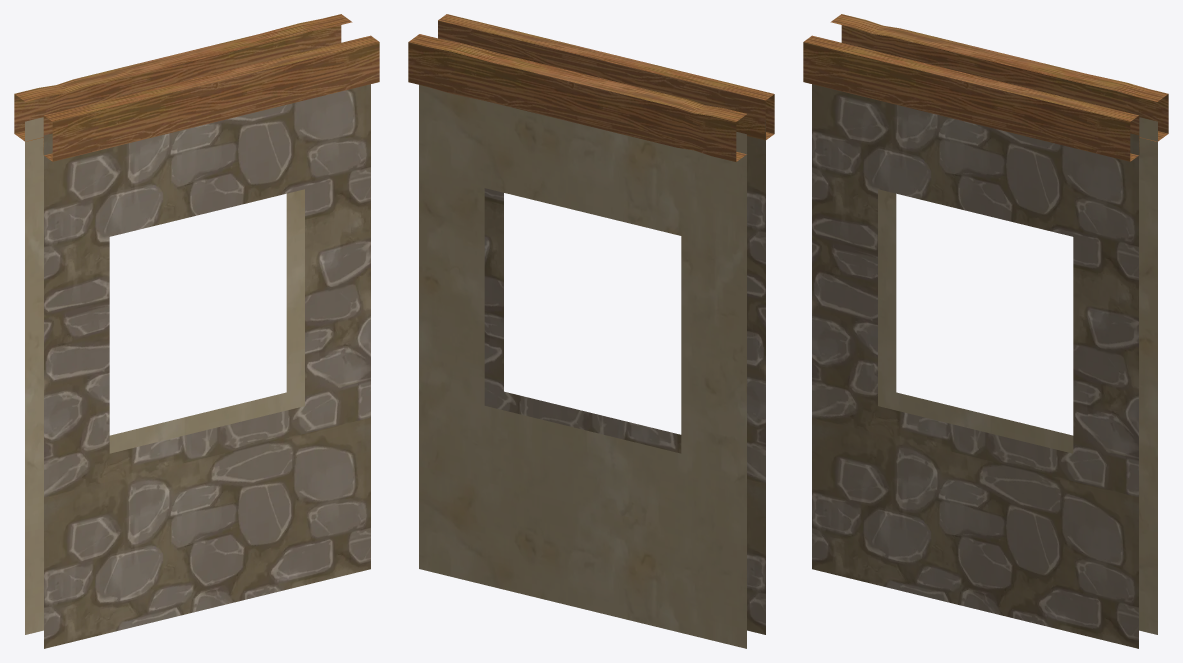
The model's file is wall_unevenbrick_window_wide_flat.glb.
3 renders of one model, left to right at view 1: azimuth 30°, elevation 25°; view 2: azimuth 150°, elevation 25°; view 3: azimuth 330°, elevation 25°, orthographic.
Size of the model in its own units: 2 by 3.12 by 0.4066.
3 materials, 3 textured.
